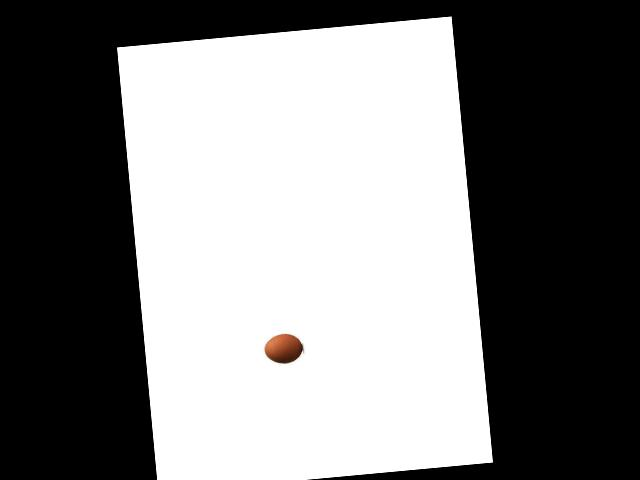egg: (263, 333, 304, 365)
